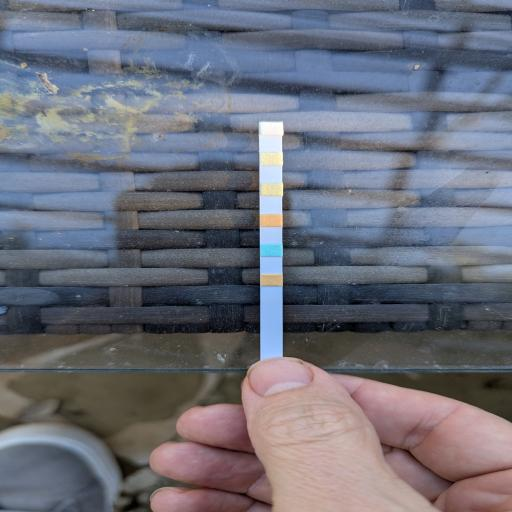strip: (260, 121, 285, 360)
